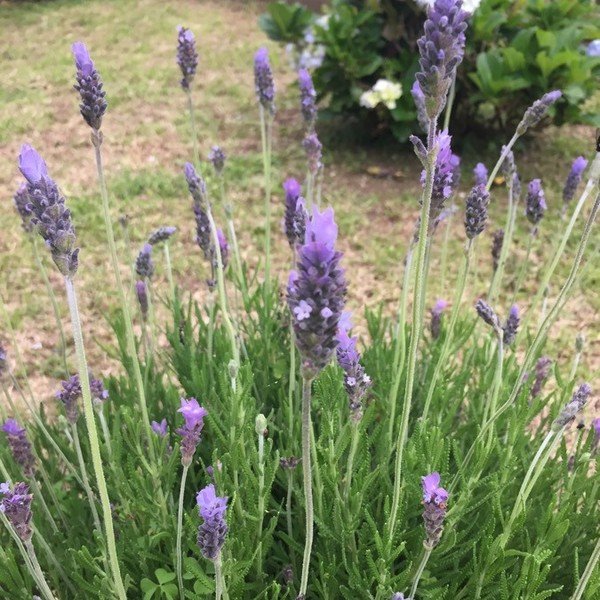obstacle: (130, 239, 571, 579)
